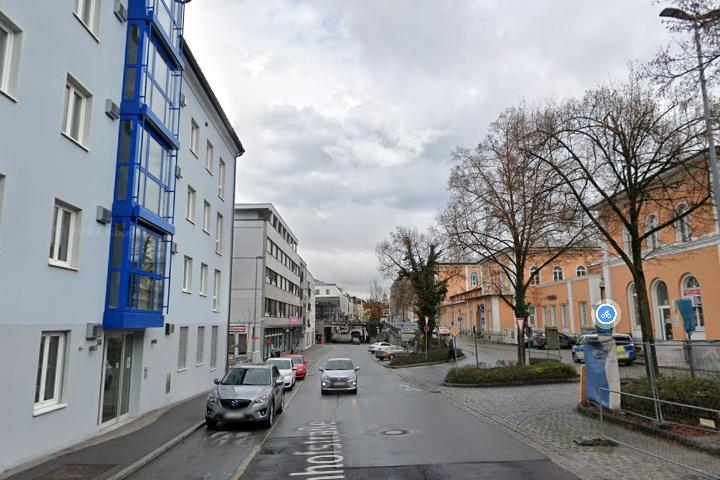google_maps: (596, 303, 616, 324)
traffic_sign: (515, 318, 525, 334), (450, 326, 460, 336), (424, 316, 430, 325)
vehicle: (203, 362, 287, 435), (317, 357, 361, 397), (374, 342, 416, 362)
